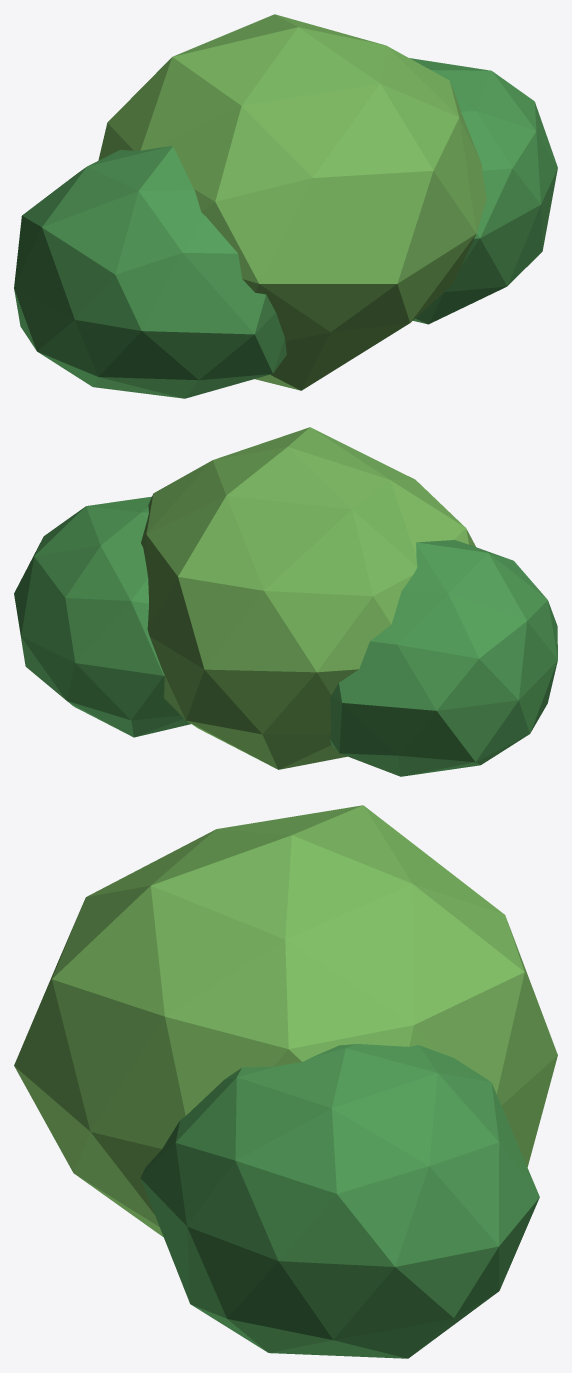
File: arbusto.glb
3 views of the same model, one above another, from view 1: azimuth 30°, elevation 25°; view 2: azimuth 150°, elevation 25°; view 3: azimuth 270°, elevation 25° (orthographic). The views are drawn at different scales.
Parts seen in each view (by area): view 1: Icosphere, Icosphere.002, Icosphere.001; view 2: Icosphere, Icosphere.002, Icosphere.001; view 3: Icosphere, Icosphere.001.
Part boxes in pixels (x1,y1,x2,y2): Icosphere: (98, 14, 486, 390); Icosphere.002: (14, 146, 286, 398); Icosphere.001: (409, 58, 557, 324); Icosphere: (141, 427, 475, 769); Icosphere.002: (329, 540, 557, 776); Icosphere.001: (14, 496, 190, 737); Icosphere: (14, 805, 557, 1237); Icosphere.001: (140, 1044, 539, 1358).
Size of the model in its own units: 1.66 by 0.9526 by 1.11.
